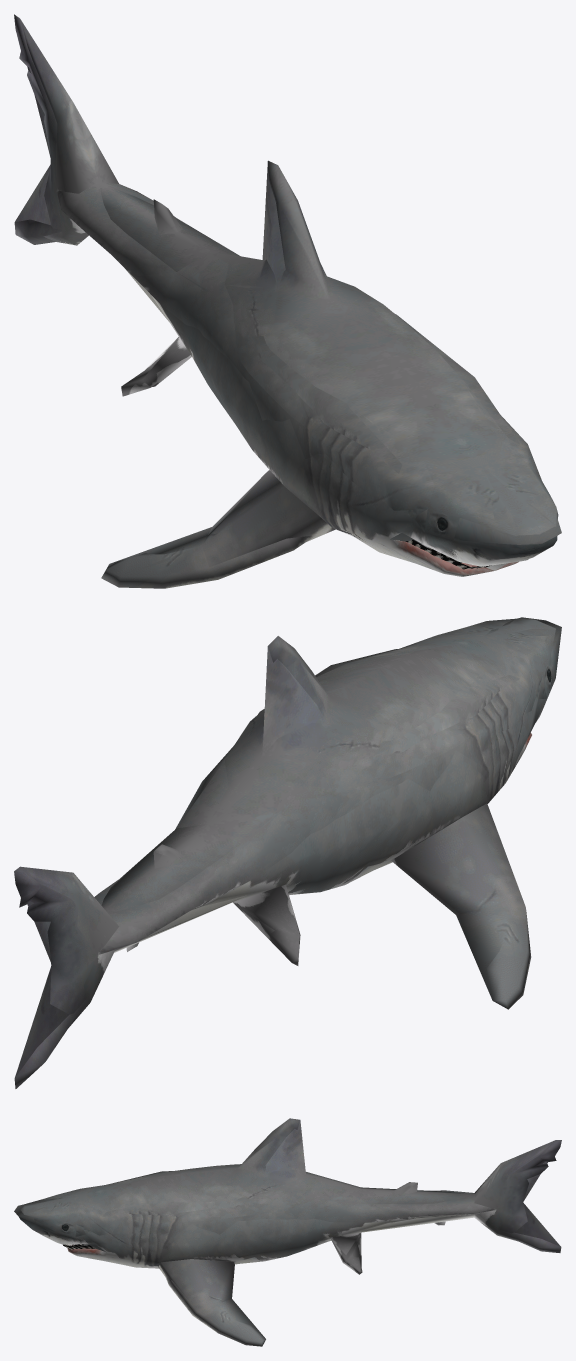
File: sharkey-lod0.glb
The picture shows the model from 3 angles, top to bottom: view 1: azimuth 30°, elevation 25°; view 2: azimuth 150°, elevation 25°; view 3: azimuth 270°, elevation 25°; orthographic projection. The views are drawn at different scales.
Parts seen in each view (by area): view 1: Editable_Mesh.001_Editable_Mesh.054; view 2: Editable_Mesh.001_Editable_Mesh.054; view 3: Editable_Mesh.001_Editable_Mesh.054.
Part boxes in pixels (box(x1,y1,x2,y2)): Editable_Mesh.001_Editable_Mesh.054: box(14, 14, 561, 588); Editable_Mesh.001_Editable_Mesh.054: box(14, 617, 561, 1088); Editable_Mesh.001_Editable_Mesh.054: box(14, 1118, 561, 1346).
Size of the model in its own units: 15.16 by 12.23 by 34.28.
Materials: 5 (5 with a texture image).
